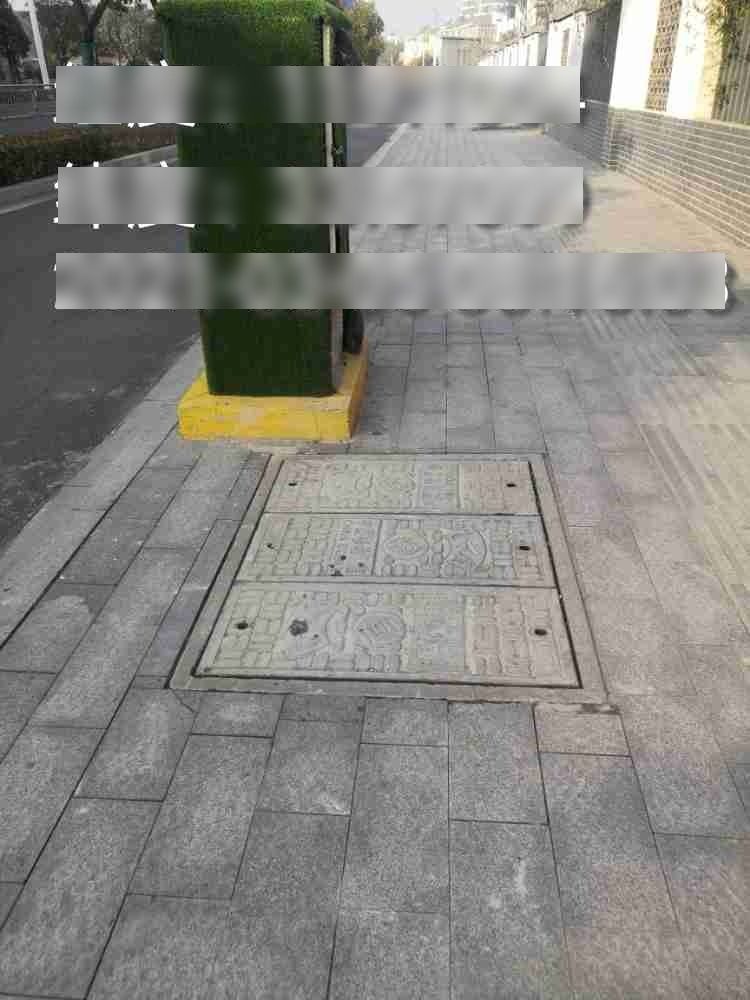good: (170, 443, 610, 703)
